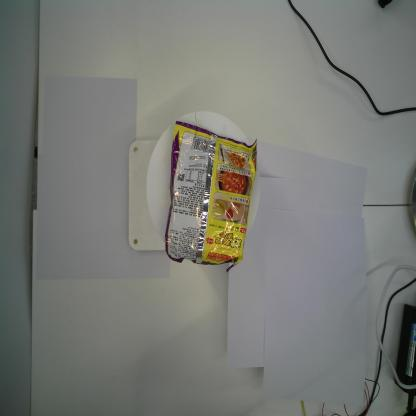Instant Noodles: (163, 119, 258, 274)
